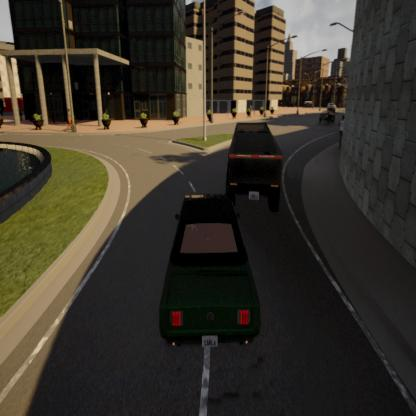Cars: (153, 180, 262, 367), (215, 94, 292, 216), (317, 99, 340, 136)
Pedestrian: (66, 104, 76, 144)
